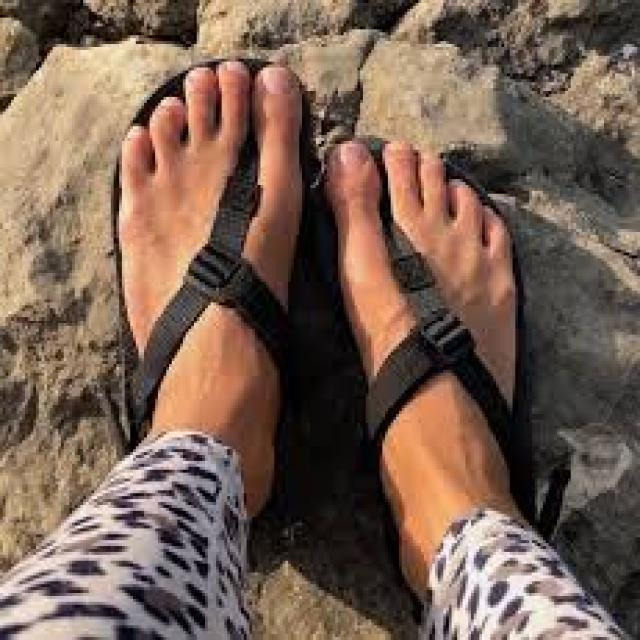No_Shoe: (112, 61, 309, 465), (333, 125, 536, 498)
